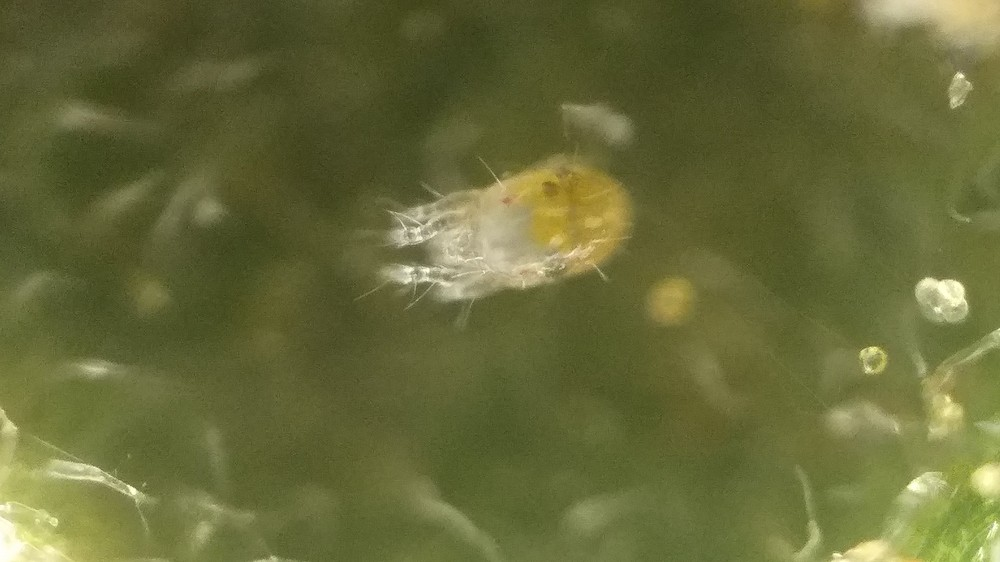Aracnido Rojo: (345, 129, 679, 348)
